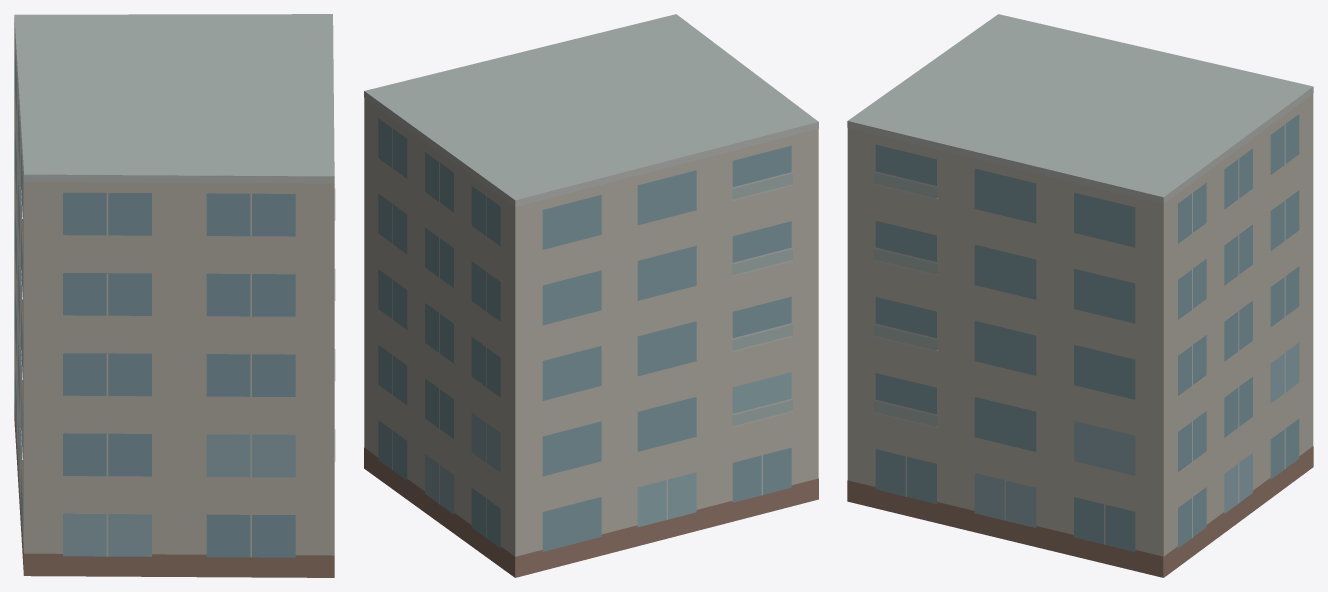
The model's file is survey-upis-33037418.glb.
3 renders of one model, left to right at view 1: azimuth 30°, elevation 25°; view 2: azimuth 150°, elevation 25°; view 3: azimuth 270°, elevation 25°, orthographic. The views are drawn at different scales.
Parts seen in each view (by area): view 1: survey-upis-33037418.tmp; view 2: survey-upis-33037418.tmp; view 3: survey-upis-33037418.tmp.
Boxes of the visible parts, x1,y1,x2,y2 form: survey-upis-33037418.tmp: [14, 14, 335, 577]; survey-upis-33037418.tmp: [364, 14, 818, 577]; survey-upis-33037418.tmp: [847, 14, 1313, 577].
Size of the model in its own units: 13.95 by 13.5 by 14.99.
